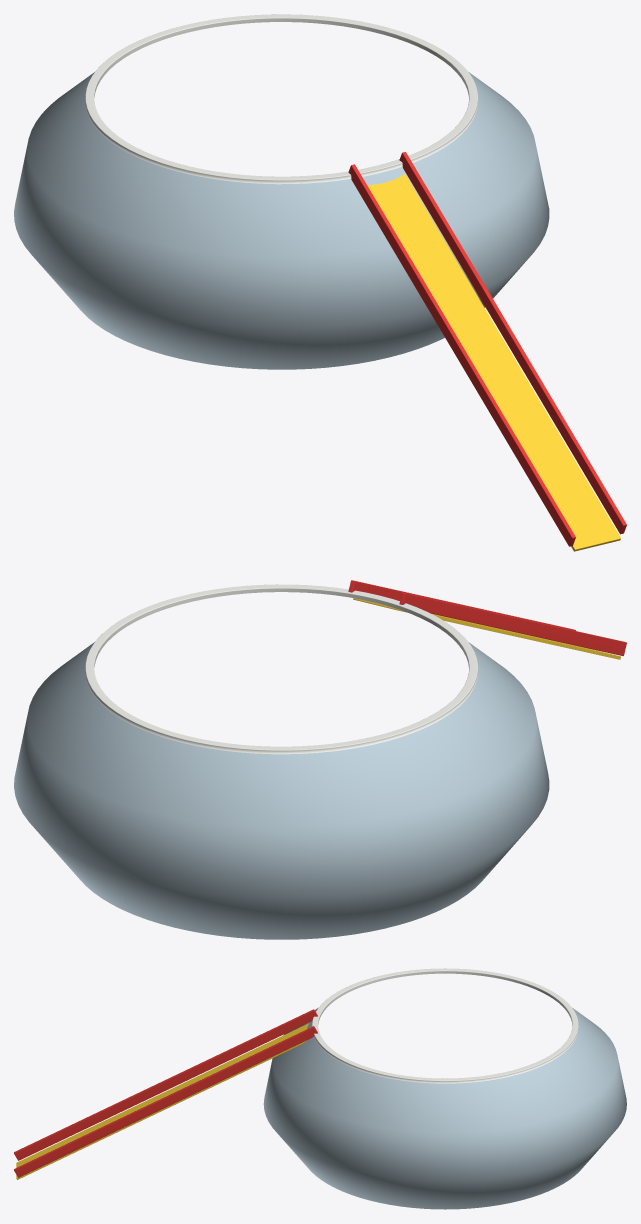
File: fishbowl.glb
3 views of the same model, one above another, from view 1: azimuth 30°, elevation 25°; view 2: azimuth 150°, elevation 25°; view 3: azimuth 270°, elevation 25° (orthographic). The views are drawn at different scales.
Visible parts, largest first — view 1: fishbowl.001; view 2: fishbowl.001; view 3: fishbowl.001.
Part boxes in pixels (bbox=[...]): fishbowl.001: bbox=[14, 14, 626, 551]; fishbowl.001: bbox=[14, 580, 626, 939]; fishbowl.001: bbox=[14, 968, 626, 1209].
Bounding box in the file's own units: 60 × 28.11 × 101.
